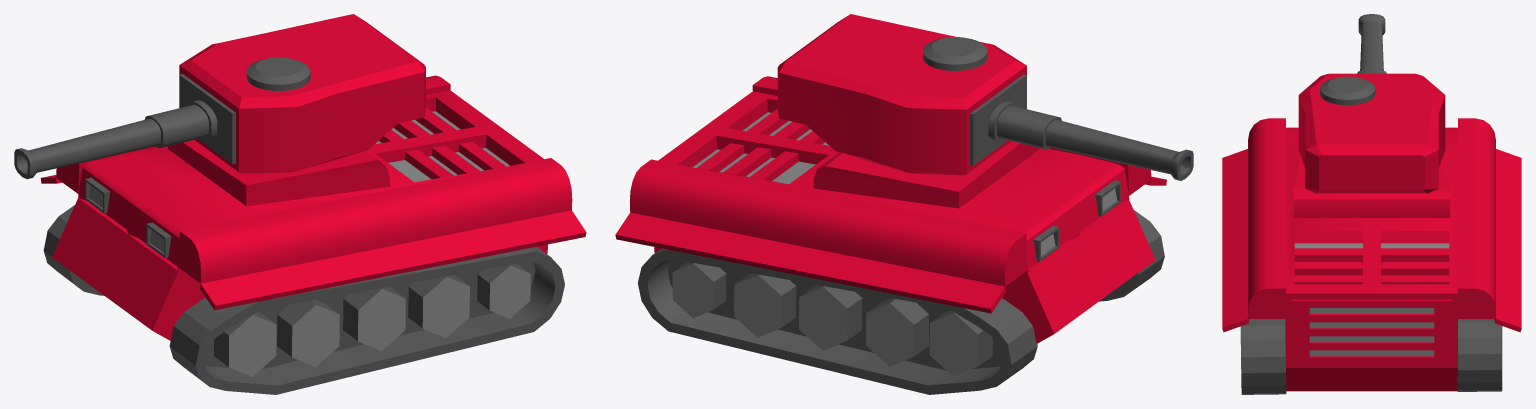
The model's file is tank_enemy (1).fbx.
The picture shows the model from 3 angles, left to right: view 1: azimuth 30°, elevation 25°; view 2: azimuth 150°, elevation 25°; view 3: azimuth 270°, elevation 25°; orthographic projection. The views are drawn at different scales.
Visible parts, largest first — view 1: Body, wheels, Head, gun; view 2: Body, wheels, Head, gun; view 3: Body, Head, wheels, gun.
Part boxes in pixels (bbox=[...]): Body: bbox=[40, 75, 586, 340]; wheels: bbox=[43, 205, 564, 394]; Head: bbox=[179, 14, 425, 173]; gun: bbox=[14, 100, 217, 178]; Body: bbox=[615, 76, 1166, 343]; wheels: bbox=[638, 210, 1164, 394]; Head: bbox=[777, 14, 1026, 175]; gun: bbox=[988, 101, 1193, 180]; Body: bbox=[1222, 118, 1521, 391]; Head: bbox=[1298, 73, 1445, 193]; wheels: bbox=[1240, 319, 1502, 394]; gun: bbox=[1357, 14, 1386, 73].
Bounding box in the file's own units: 923 × 489 × 580.
